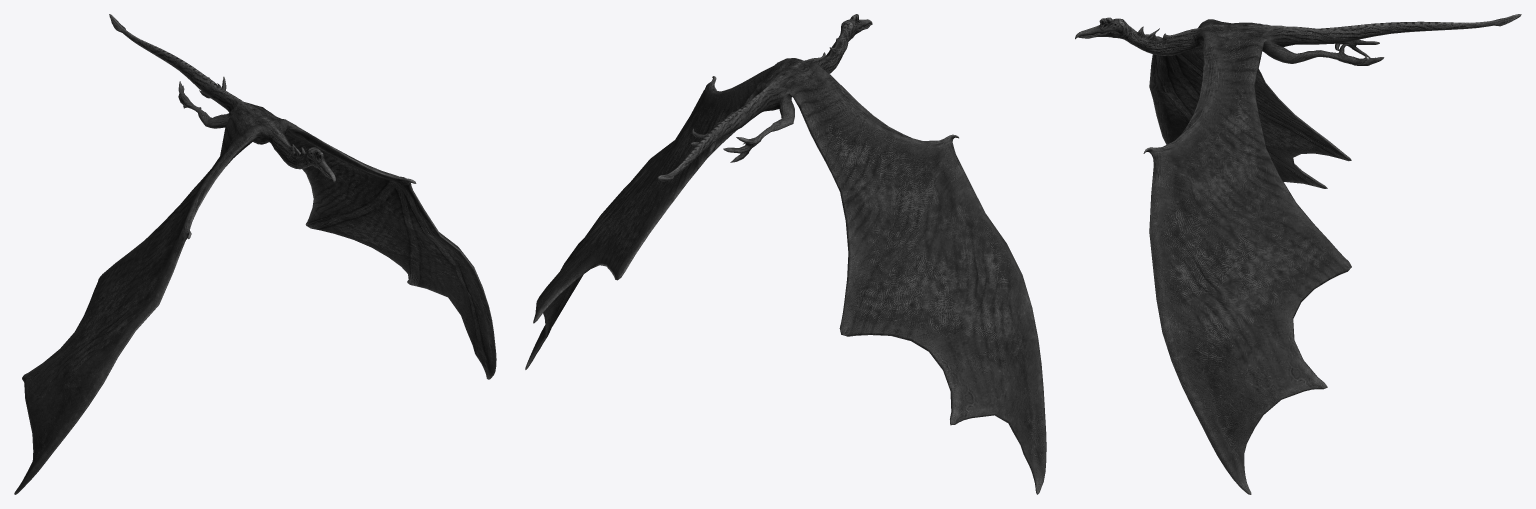
File: Fellbeast_Animate_Flying_28.obj
The picture shows the model from 3 angles, left to right: view 1: azimuth 30°, elevation 25°; view 2: azimuth 150°, elevation 25°; view 3: azimuth 270°, elevation 25°; orthographic projection. The views are drawn at different scales.
Parts seen in each view (by area): view 1: Fellbeast; view 2: Fellbeast; view 3: Fellbeast.
Boxes of the visible parts, x1=… form: Fellbeast: x1=14, y1=14, x2=496, y2=494; Fellbeast: x1=525, y1=14, x2=1046, y2=494; Fellbeast: x1=1075, y1=14, x2=1521, y2=494.
Size of the model in its own units: 5.7 by 3.86 by 4.4.
